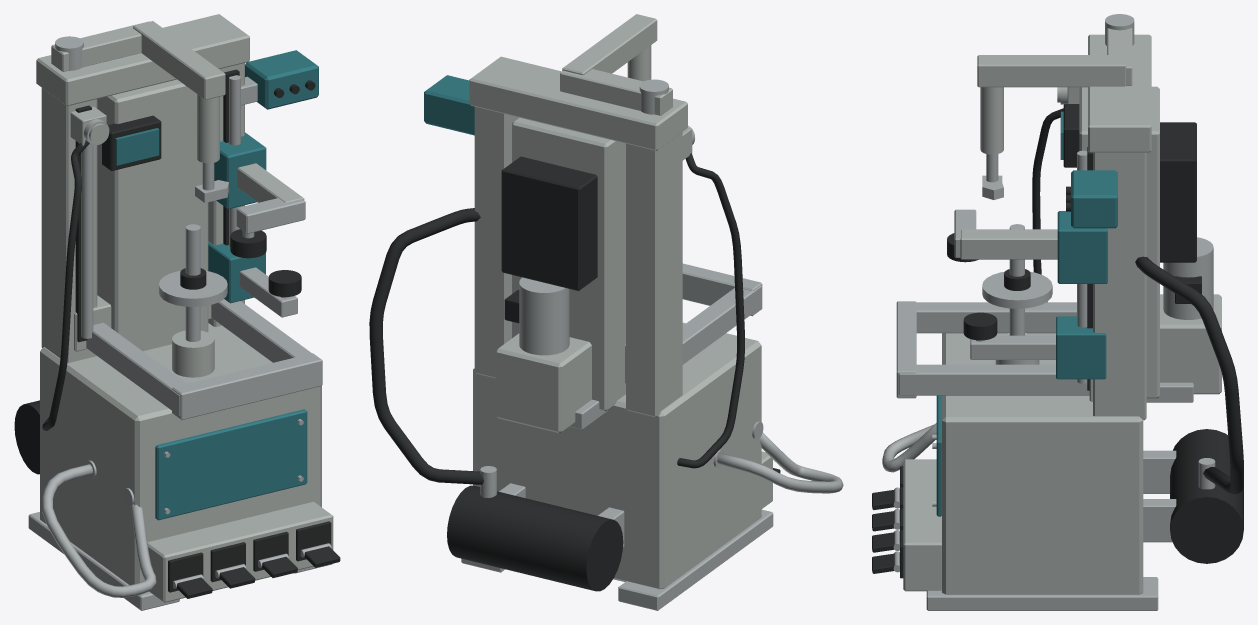
The picture shows the model from 3 angles, left to right: view 1: azimuth 30°, elevation 25°; view 2: azimuth 150°, elevation 25°; view 3: azimuth 270°, elevation 25°; orthographic projection. The views are drawn at different scales.
Visible parts, largest first — view 1: Lower machine cabinet, Central rear housing, Front service panel, Rear outer guide column -0.26, Upper connecting bridge, Front pedal housing, Front lift crossbar, Low attached wheel lift cradle, Forward lift rail -0.22, Forward mounting arm, Upper side control pod, Forward lift rail 0.22 (+35 smaller); view 2: Lower machine cabinet, Rear outer guide column -0.26, Central rear housing, Attached horizontal rear air tank, Rear closed electrical enclosure, Upper connecting bridge, Rear outer guide column 0.26, Rear hydraulic reservoir, Rear broad hose loop, Rear motor exterior, Left hanging inflation hose, Ground mounting foot -0.27 (+8 smaller); view 3: Lower machine cabinet, Rear outer guide column 0.26, Attached horizontal rear air tank, Upper connecting bridge, Forward lift rail 0.22, Rear closed electrical enclosure, Forward mounting arm, Front pedal housing, Central rear housing, Rear broad hose loop, Ground mounting foot 0.27, Rear hydraulic reservoir (+23 smaller).
Boxes of the visible parts, bbox=[...] form: Lower machine cabinet: bbox=[40, 323, 321, 584]; Central rear housing: bbox=[97, 79, 208, 351]; Front service panel: bbox=[155, 409, 307, 520]; Rear outer guide column -0.26: bbox=[41, 88, 97, 362]; Upper connecting bridge: bbox=[36, 14, 249, 106]; Front pedal housing: bbox=[147, 501, 333, 602]; Front lift crossbar: bbox=[172, 353, 322, 419]; Low attached wheel lift cradle: bbox=[42, 464, 156, 597]; Forward lift rail -0.22: bbox=[86, 322, 186, 416]; Forward mounting arm: bbox=[133, 21, 225, 99]; Upper side control pod: bbox=[245, 50, 318, 109]; Forward lift rail 0.22: bbox=[211, 299, 311, 362]; Lower machine cabinet: bbox=[473, 322, 761, 589]; Rear outer guide column -0.26: bbox=[626, 132, 682, 417]; Central rear housing: bbox=[512, 117, 625, 411]; Attached horizontal rear air tank: bbox=[447, 485, 623, 591]; Rear closed electrical enclosure: bbox=[501, 156, 597, 290]; Upper connecting bridge: bbox=[469, 56, 687, 150]; Rear outer guide column 0.26: bbox=[474, 107, 519, 378]; Rear hydraulic reservoir: bbox=[495, 333, 591, 433]; Rear broad hose loop: bbox=[369, 208, 483, 484]; Rear motor exterior: bbox=[519, 277, 569, 355]; Left hanging inflation hose: bbox=[677, 153, 744, 468]; Ground mounting foot -0.27: bbox=[618, 509, 773, 610]; Lower machine cabinet: bbox=[942, 333, 1143, 594]; Rear outer guide column 0.26: bbox=[1093, 152, 1146, 420]; Attached horizontal rear air tank: bbox=[1170, 429, 1243, 563]; Upper connecting bridge: bbox=[1088, 34, 1151, 152]; Forward lift rail 0.22: bbox=[898, 364, 1089, 395]; Rear closed electrical enclosure: bbox=[1160, 122, 1196, 262]; Forward mounting arm: bbox=[977, 55, 1126, 87]; Front pedal housing: bbox=[903, 459, 941, 591]; Central rear housing: bbox=[1079, 86, 1159, 398]; Rear broad hose loop: bbox=[1135, 256, 1243, 494]; Ground mounting foot 0.27: bbox=[926, 577, 1158, 610]; Rear hydraulic reservoir: bbox=[1160, 294, 1221, 394].
Size of the model in its own units: 110 by 167 by 111.
